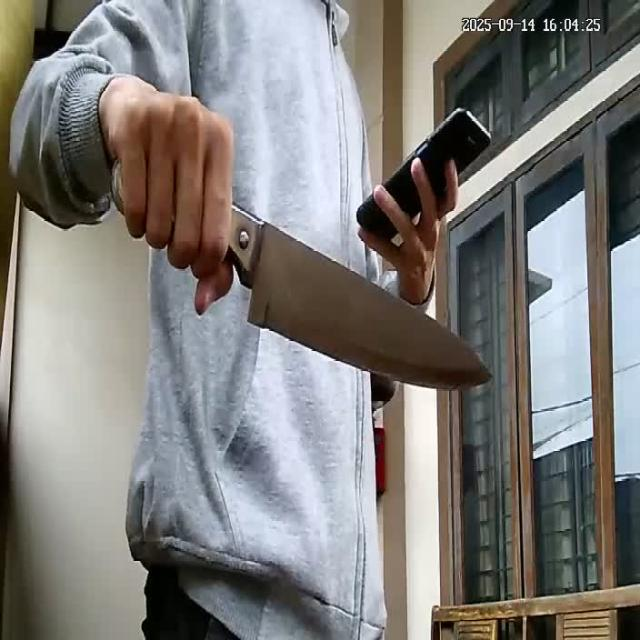senjata_tajam: (231, 201, 495, 395)
